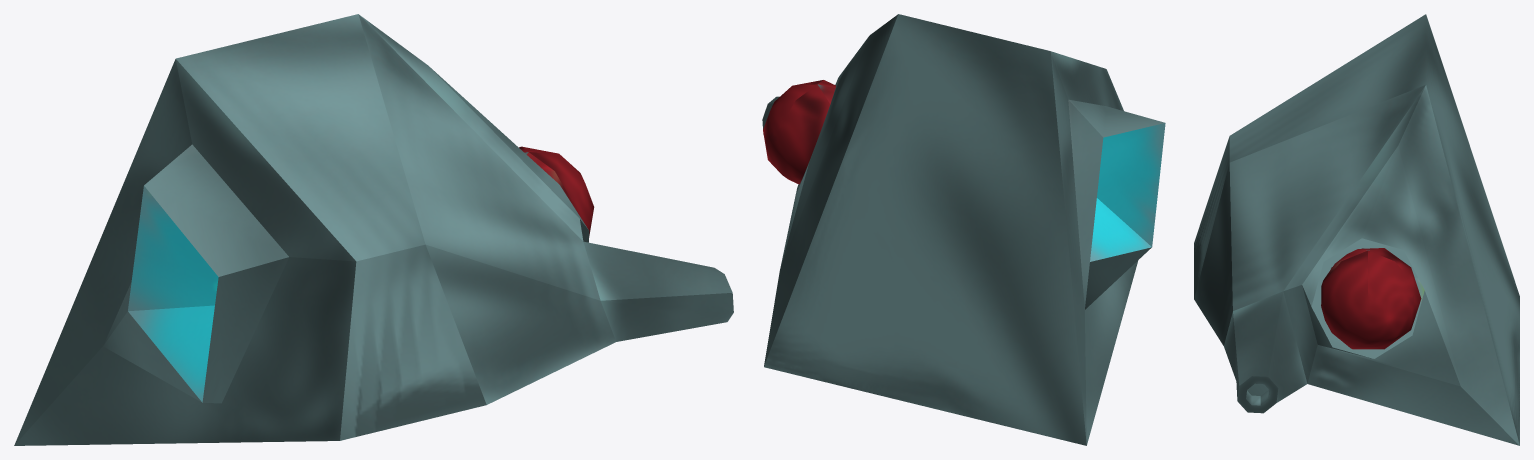
File: Drone_1.fbx
3 views of the same model, side by side, from view 1: azimuth 30°, elevation 25°; view 2: azimuth 150°, elevation 25°; view 3: azimuth 270°, elevation 25° (orthographic). The views are drawn at different scales.
Parts seen in each view (by area): view 1: Drone, Eye; view 2: Drone, Eye; view 3: Drone, Eye.
Part boxes in pixels (x1,y1,x2,y2): Drone: (14, 14, 733, 445); Eye: (519, 146, 594, 237); Drone: (762, 14, 1165, 445); Eye: (763, 80, 835, 184); Drone: (1194, 14, 1519, 445); Eye: (1321, 248, 1421, 349).
Size of the model in its own units: 551 by 838 by 600.
